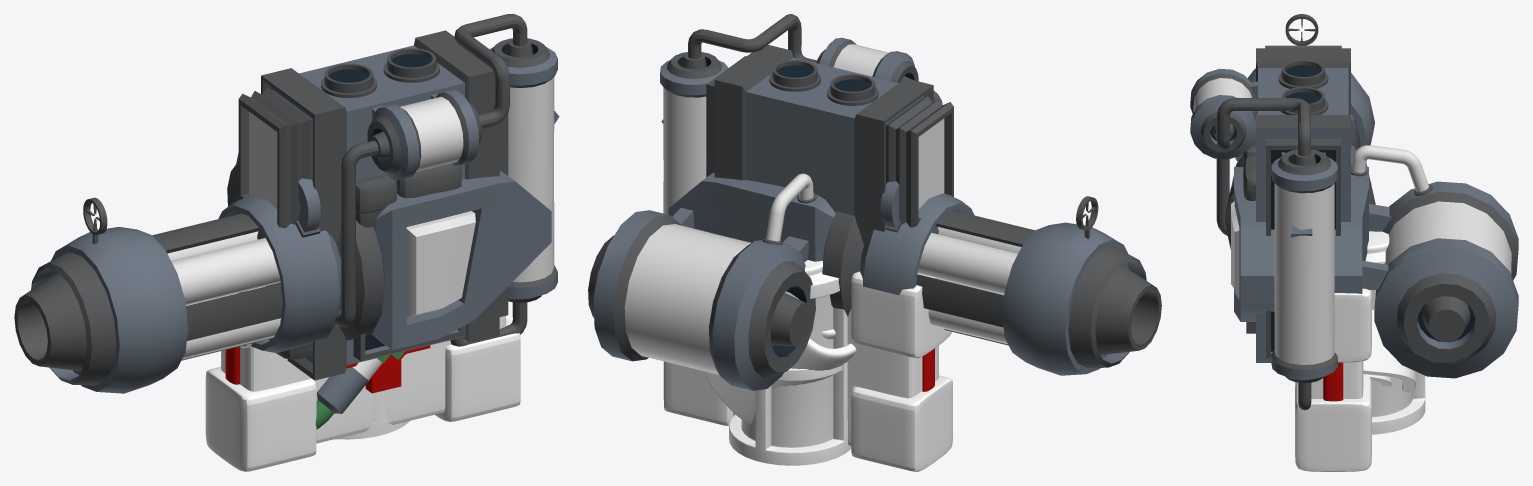
File: Props.fbx
The picture shows the model from 3 angles, left to right: view 1: azimuth 30°, elevation 25°; view 2: azimuth 150°, elevation 25°; view 3: azimuth 270°, elevation 25°; orthographic projection. The views are drawn at different scales.
Visible parts, largest first — view 1: Gun, Backpack, Healthbox, GunTubes, BackpackTubes, Syringe, BatteryHealth1; view 2: Gun, Backpack, Healthbox, GunTubes, BatteryHealth1, BackpackTubes, Bandage; view 3: Gun, Backpack, BackpackTubes, Healthbox, GunTubes, BatteryHealth1, Bandage.
Part boxes in pixels (left/top/right/bottom): Gun: left=14, top=111, right=559, bottom=393; Backpack: left=238, top=14, right=557, bottom=380; Healthbox: left=205, top=286, right=520, bottom=471; GunTubes: left=167, top=211, right=475, bottom=359; BackpackTubes: left=249, top=77, right=554, bottom=282; Syringe: left=315, top=351, right=404, bottom=429; BatteryHealth1: left=335, top=390, right=409, bottom=439; Gun: left=588, top=119, right=1161, bottom=390; Backpack: left=660, top=14, right=953, bottom=245; Healthbox: left=663, top=271, right=952, bottom=471; GunTubes: left=624, top=173, right=1021, bottom=374; BatteryHealth1: left=729, top=260, right=851, bottom=465; BackpackTubes: left=663, top=44, right=944, bottom=214; Bandage: left=705, top=329, right=856, bottom=424; Gun: left=1225, top=14, right=1518, bottom=378; Backpack: left=1190, top=45, right=1350, bottom=410; BackpackTubes: left=1193, top=78, right=1334, bottom=364; Healthbox: left=1295, top=181, right=1371, bottom=471; GunTubes: left=1231, top=145, right=1511, bottom=291; BatteryHealth1: left=1365, top=231, right=1425, bottom=434; Bandage: left=1363, top=310, right=1415, bottom=392.
Bounding box in the file's own units: 411 × 298 × 253.
